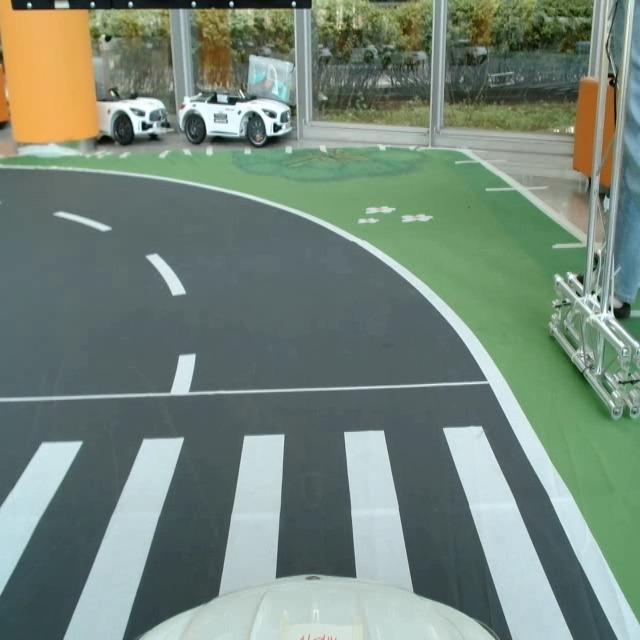traffic-light: (6, 0, 314, 15)
